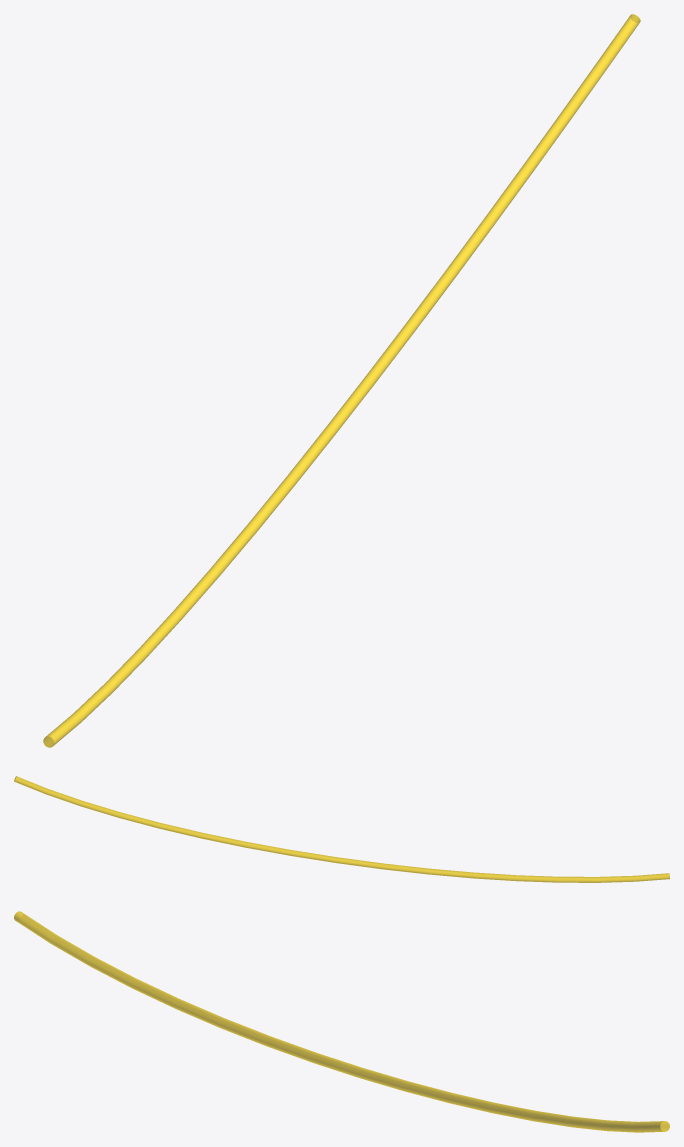
The model's file is Event_84804159_track_22.fbx.
3 renders of one model, top to bottom at view 1: azimuth 30°, elevation 25°; view 2: azimuth 150°, elevation 25°; view 3: azimuth 270°, elevation 25°, orthographic. The views are drawn at different scales.
Parts seen in each view (by area): view 1: Model; view 2: Model; view 3: Model.
Part boxes in pixels (x1,y1,x2,y2): Model: [43, 14, 640, 747]; Model: [14, 776, 669, 882]; Model: [14, 911, 669, 1132].
Bounding box in the file's own units: 3.64 × 0.8774 × 2.42.
